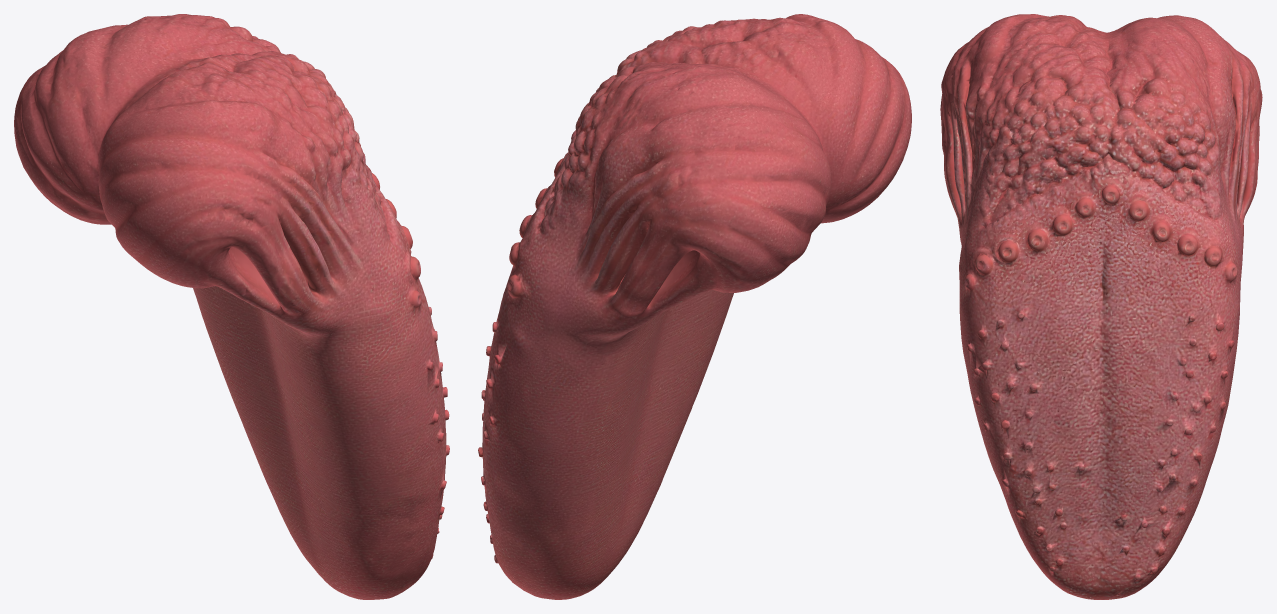
The model's file is tongue.glb.
3 views of the same model, side by side, from view 1: azimuth 30°, elevation 25°; view 2: azimuth 150°, elevation 25°; view 3: azimuth 270°, elevation 25° (orthographic). The views are drawn at different scales.
Parts seen in each view (by area): view 1: tripo_node_b345b24a-123c-4f91-be7c-69ccef146d45; view 2: tripo_node_b345b24a-123c-4f91-be7c-69ccef146d45; view 3: tripo_node_b345b24a-123c-4f91-be7c-69ccef146d45.
Boxes of the visible parts, left/top/right/bottom form: tripo_node_b345b24a-123c-4f91-be7c-69ccef146d45: left=14, top=14, right=449, bottom=599; tripo_node_b345b24a-123c-4f91-be7c-69ccef146d45: left=478, top=14, right=911, bottom=599; tripo_node_b345b24a-123c-4f91-be7c-69ccef146d45: left=940, top=14, right=1262, bottom=599.
Size of the model in its own units: 0.592 by 0.9998 by 0.5864.
1 material, 1 textured.
